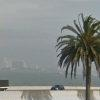Palm tree: (49, 9, 100, 99)
